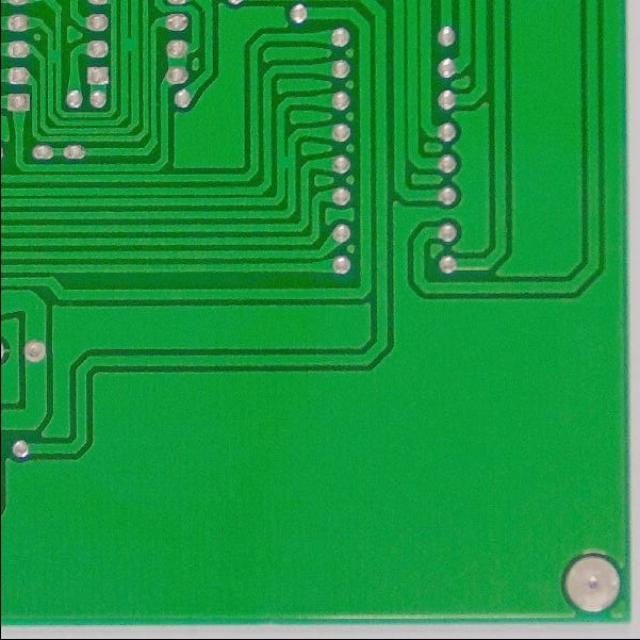Short_Circuit: (272, 150, 302, 176), (116, 31, 141, 60), (45, 44, 65, 69)
